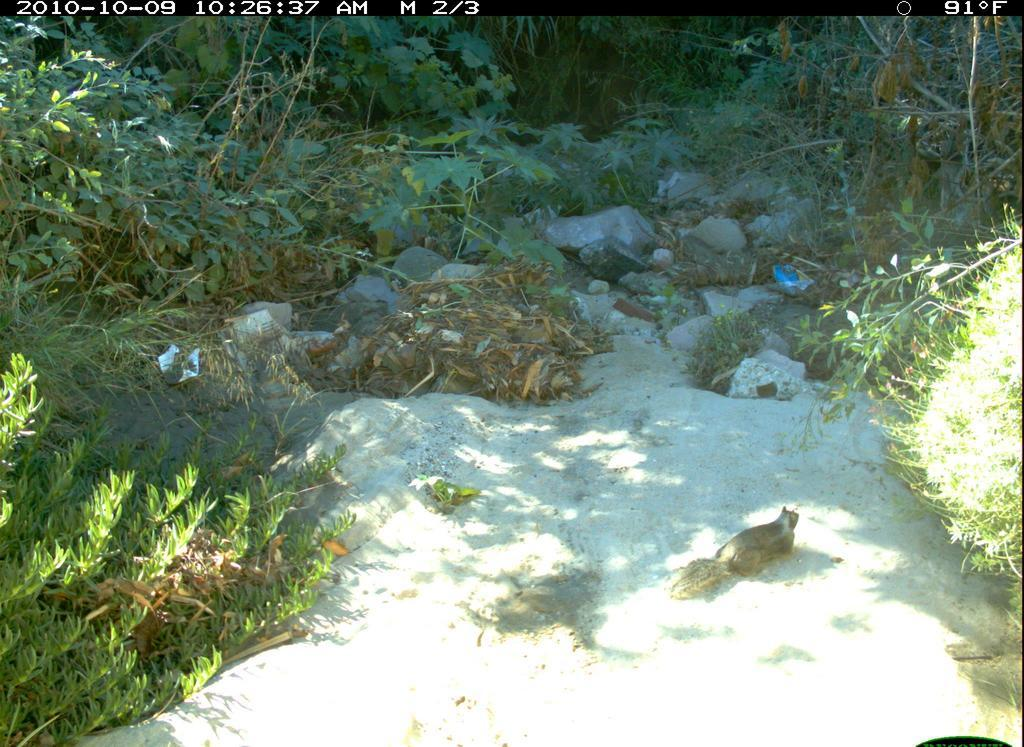squirrel: (670, 490, 817, 614)
